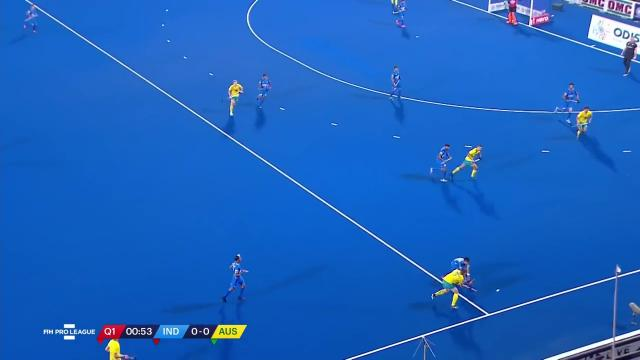ball: (494, 288, 500, 293)
